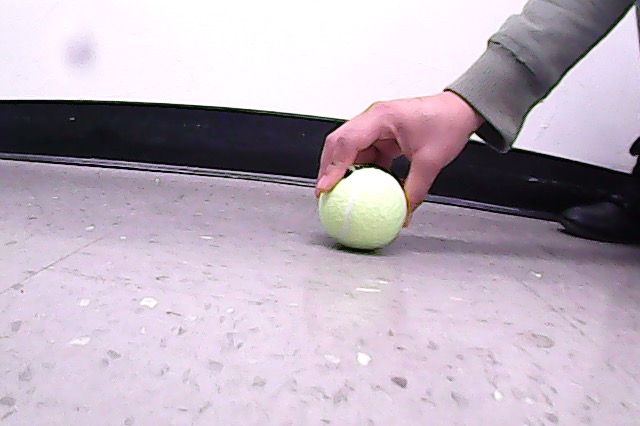ball: (318, 166, 409, 251)
